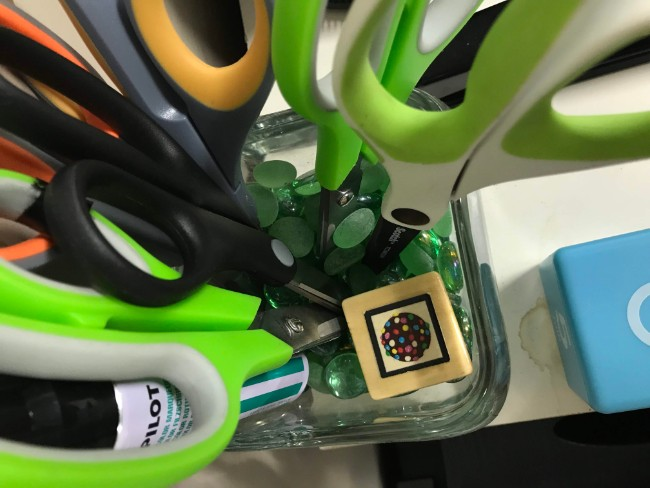cookie: (336, 271, 472, 399)
